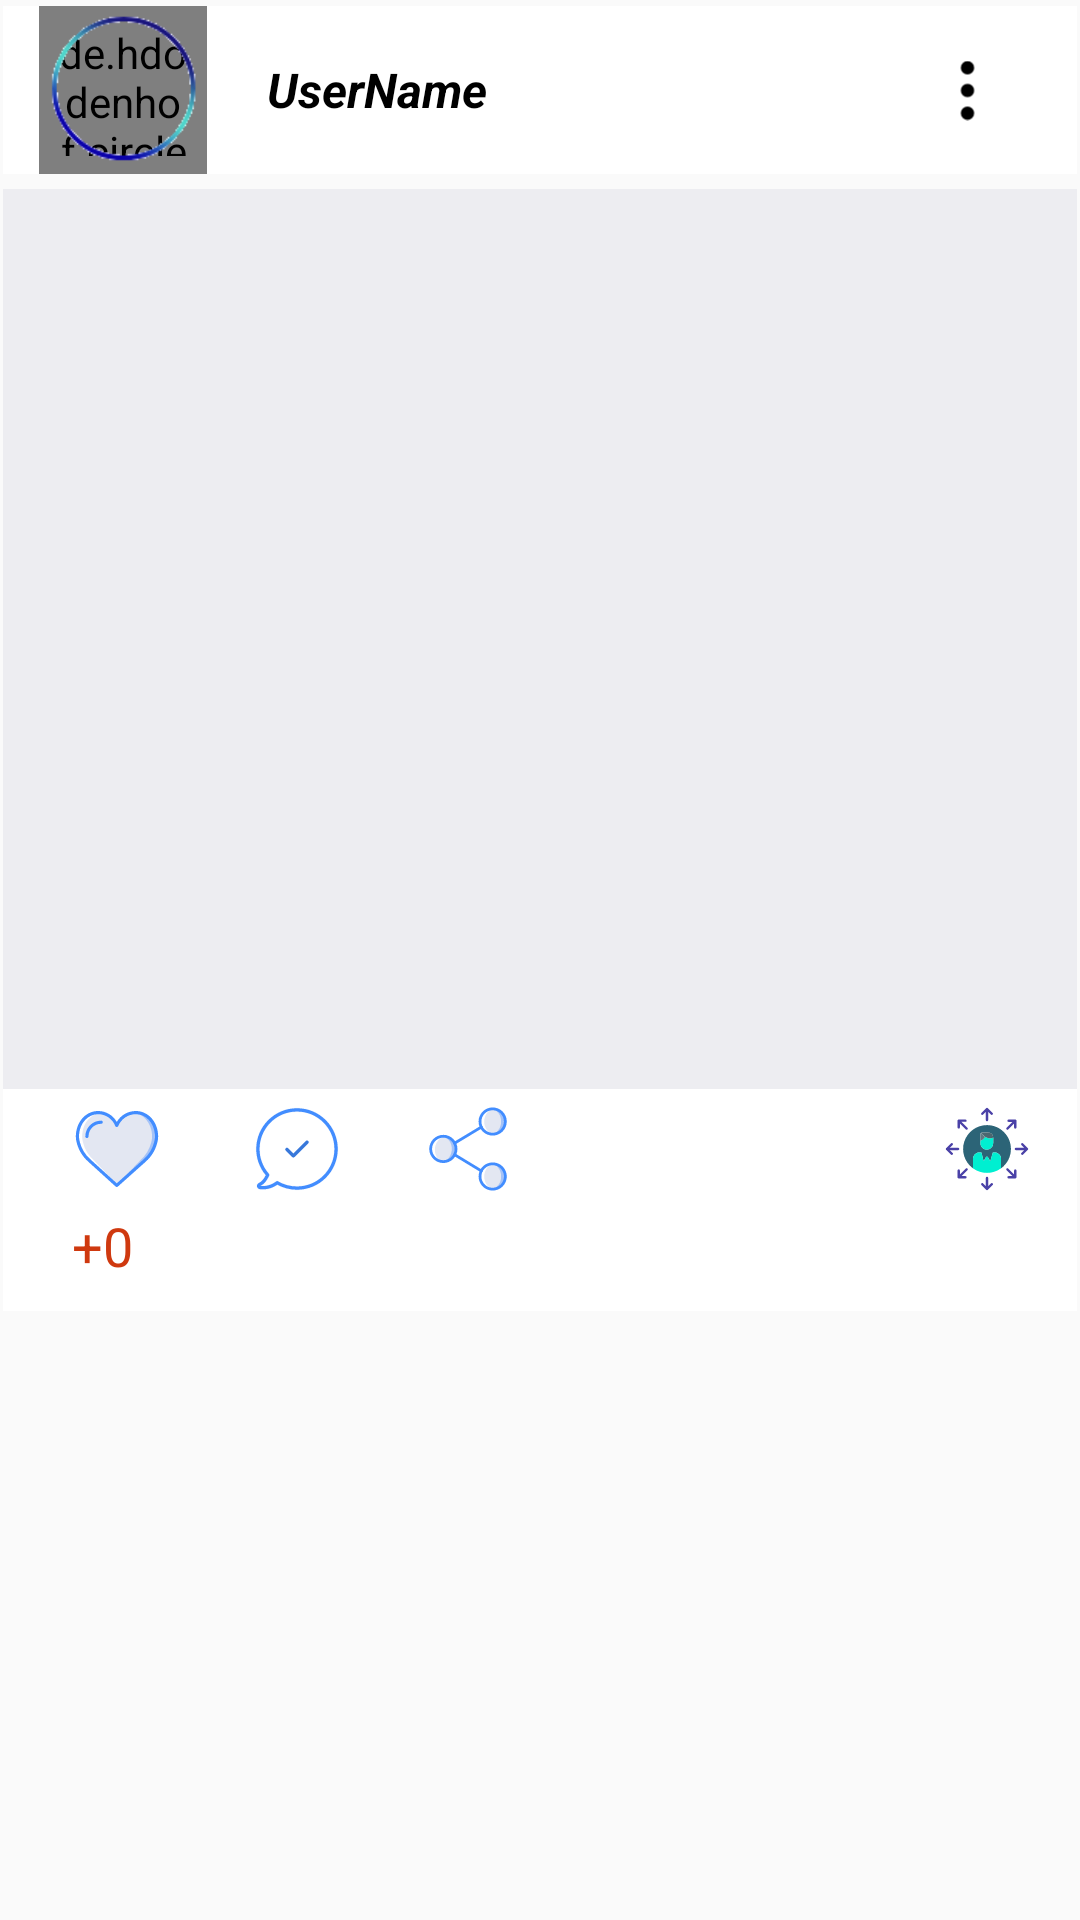

Where icons sit on this 1080 x 1920 app screen, as (x1, y1, x2, y2):
comment: (256, 1108, 338, 1190)
love def: (75, 1111, 159, 1187)
share: (429, 1107, 507, 1191)
skills: (946, 1108, 1028, 1190)
